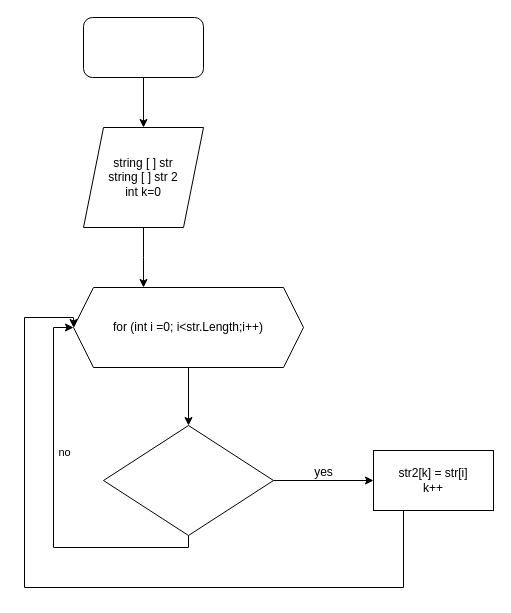
This 511x613 diagram has some shape labels left out. The centre of each missing label's shape, as x and y in pixels:
"FillingSecondStr" belongs at (143,47).
"if (str[i].Length<=3)" belongs at (188,480).
